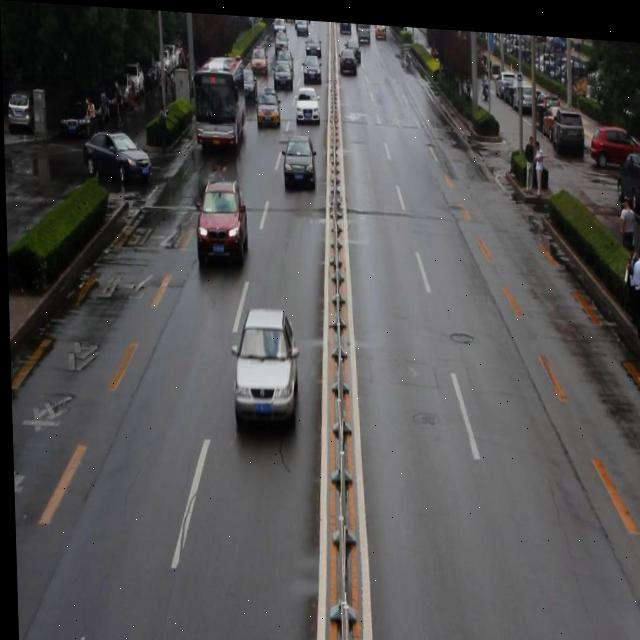car: (228, 307, 297, 424), (193, 181, 247, 262), (82, 131, 151, 187), (281, 135, 314, 187), (294, 85, 319, 122), (256, 87, 279, 126)
van: (192, 54, 247, 147)
